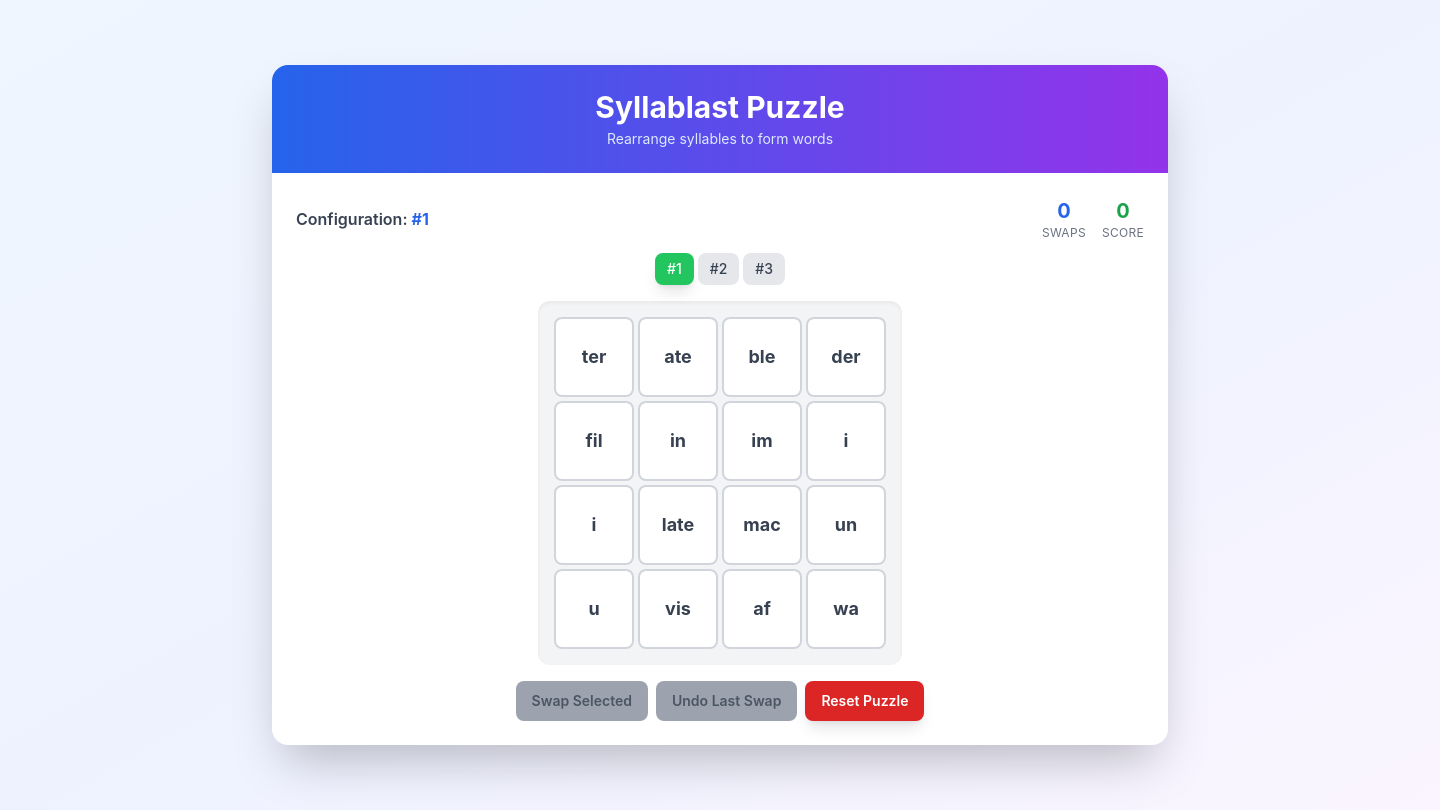
it: Undo Last Swap
Click the text with test id "syllable-0" at (594, 357), box [554,317,634,397]
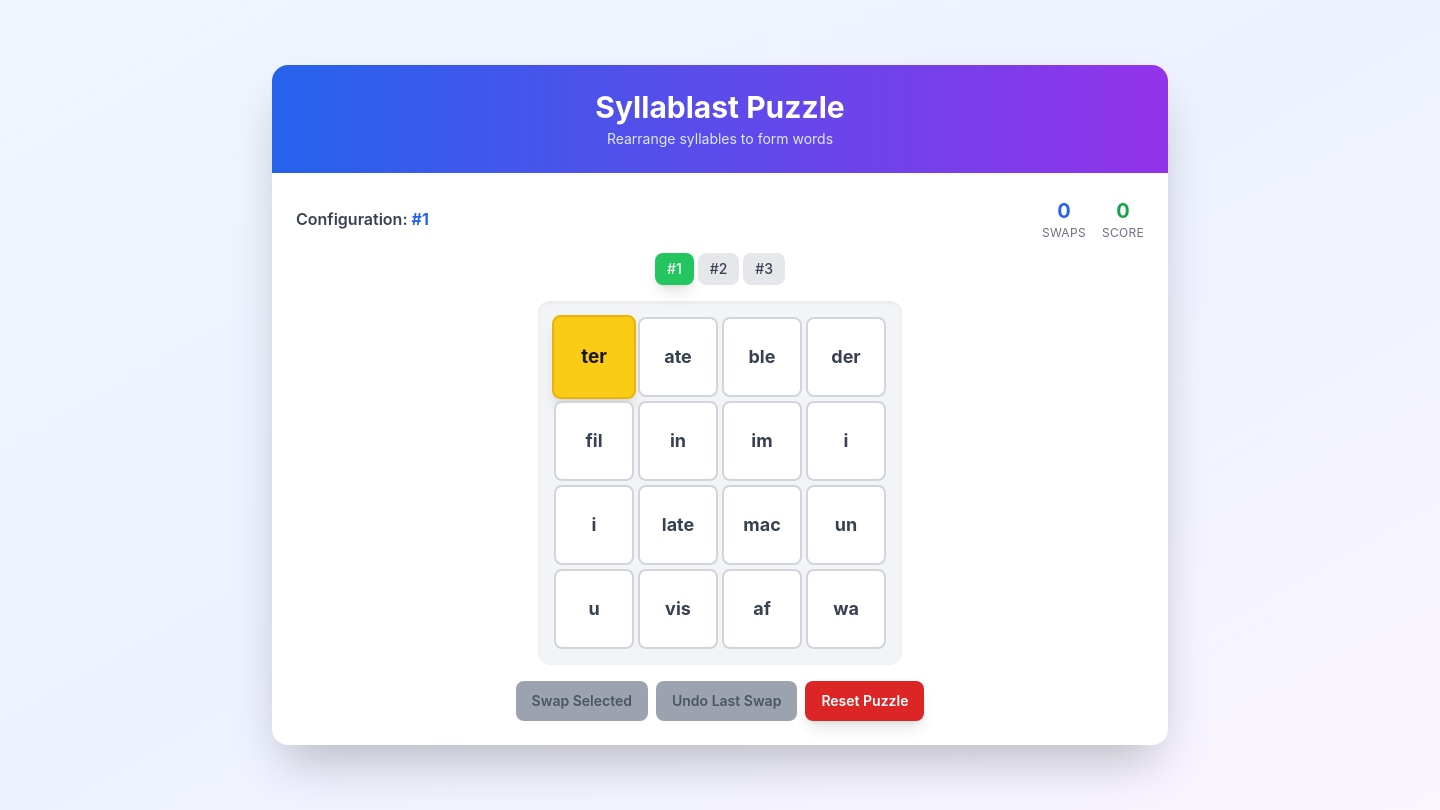
Click the text with test id "syllable-1" at (678, 357), box [638,317,718,397]
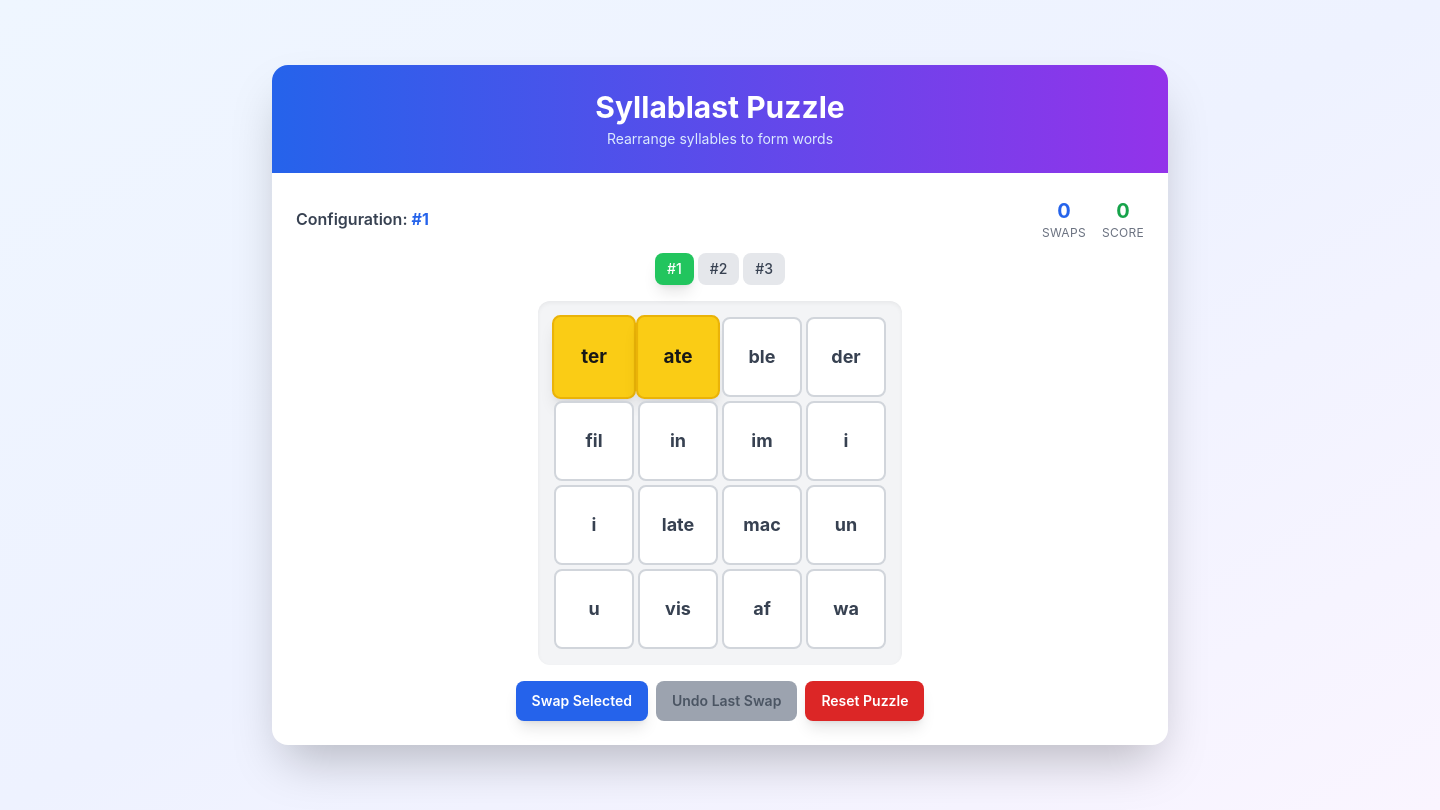
Click the button with test id "swap-button" at (582, 701), box [516,681,648,721]
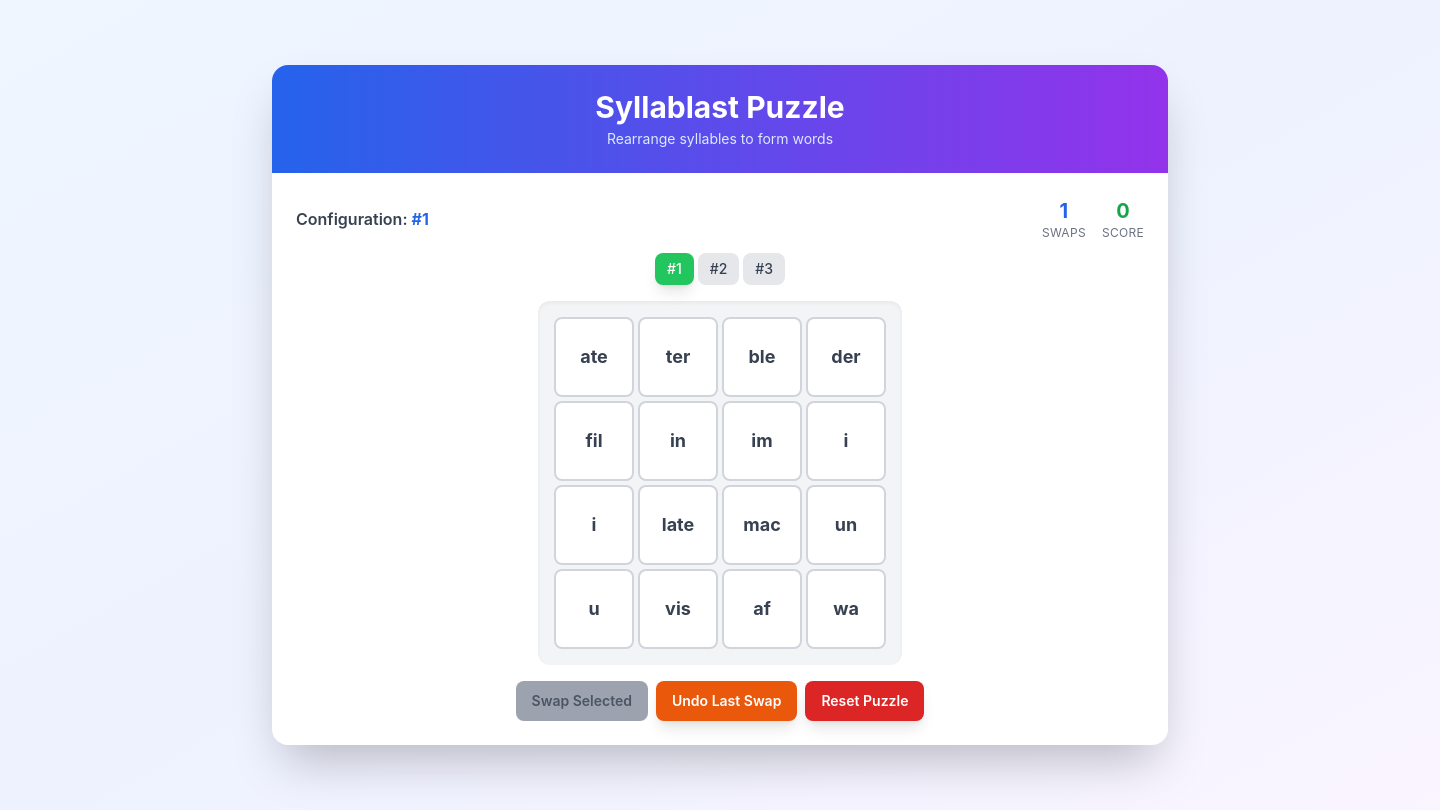
Click the button with test id "undo-button" at (727, 701), box [656,681,797,721]
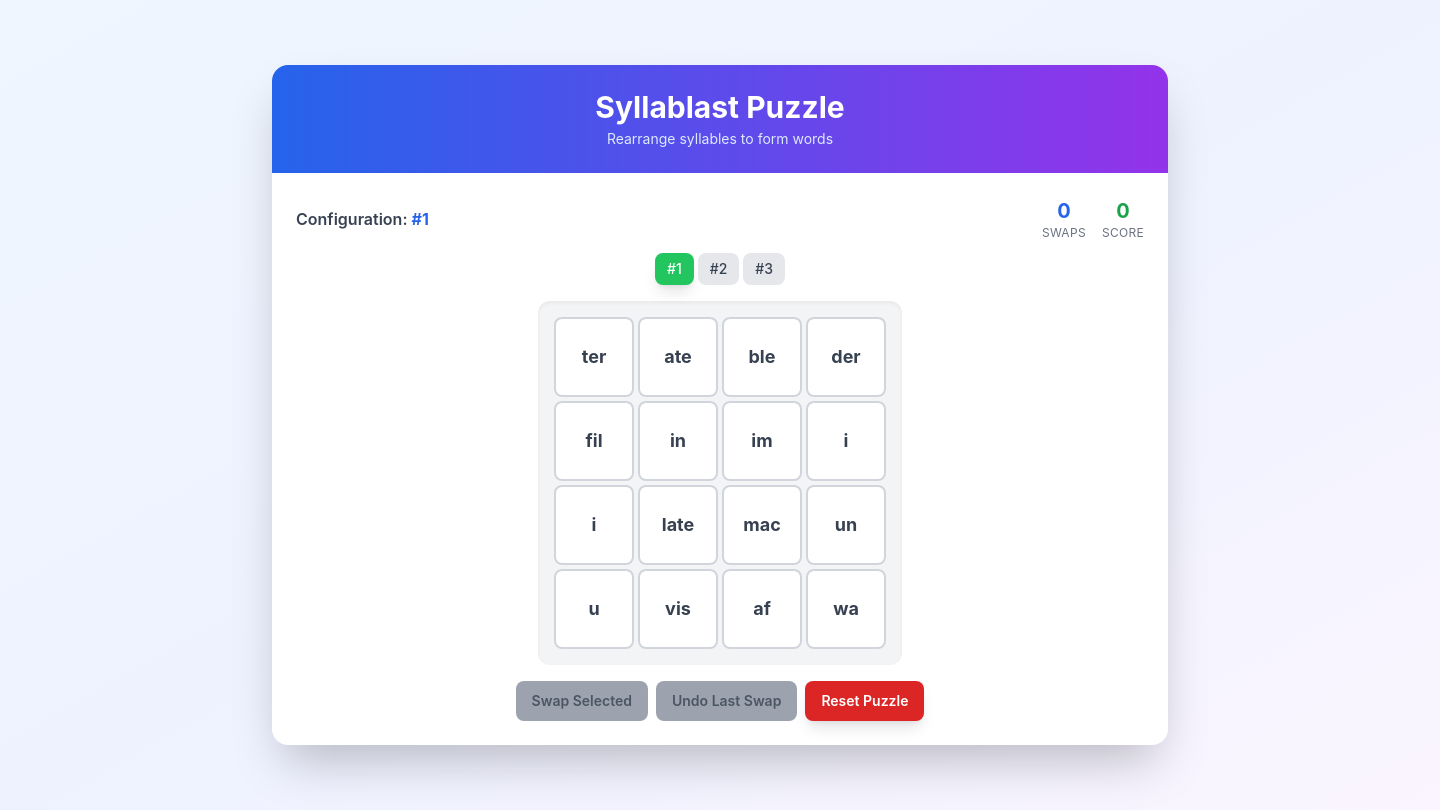
Expected: the text with test id "syllable-" reads "ter", [582,346,606,367]
Expected: the text with test id "syllable-" reads "ate", [664,346,692,367]
